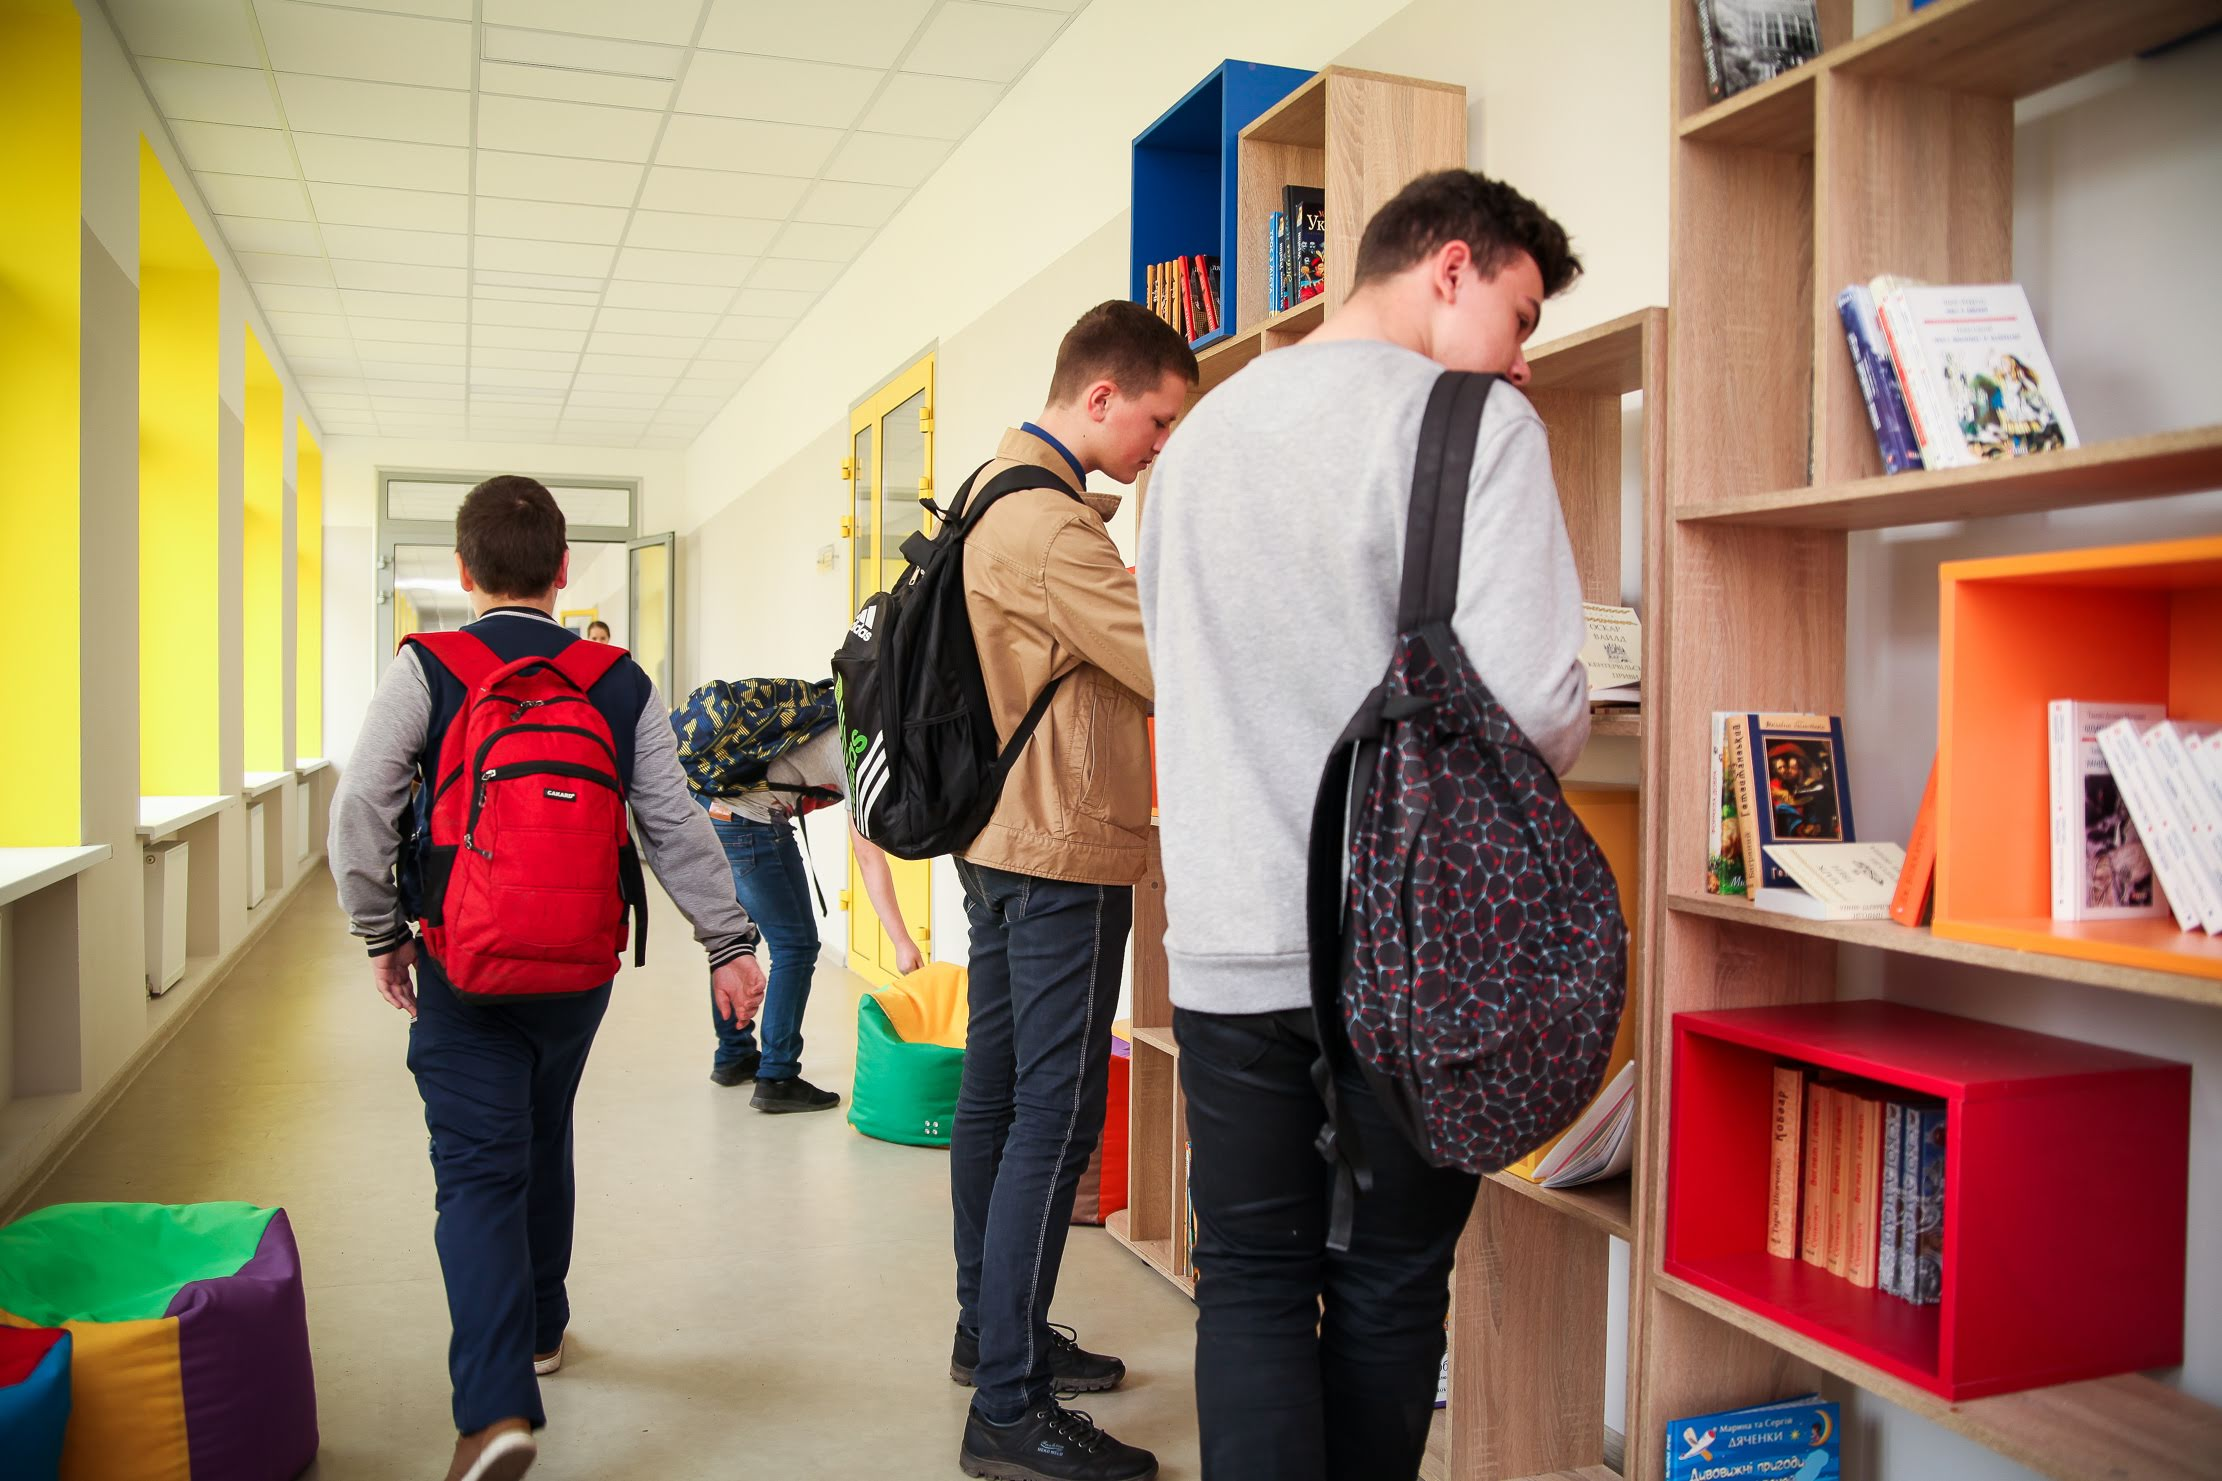students: (1133, 168, 1627, 1460), (324, 476, 768, 1480), (839, 297, 1199, 1479), (678, 673, 919, 1108), (587, 620, 615, 645)
